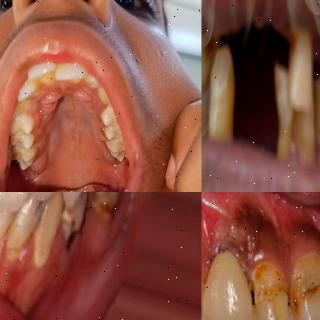Gum Swelling: (266, 237, 320, 284)
calculus: (52, 200, 90, 249), (90, 192, 126, 215)
cavities: (203, 29, 216, 65), (32, 194, 46, 222)
maligned: (28, 56, 56, 94), (14, 78, 38, 105)
plaque: (202, 274, 210, 314)
